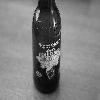beer: (33, 1, 63, 97)
